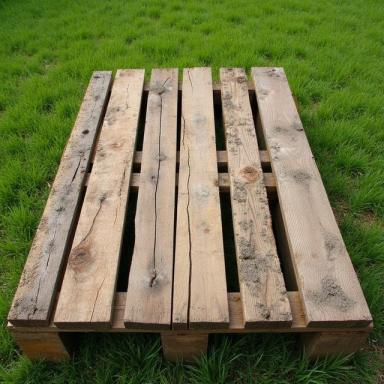pallet: (6, 67, 373, 366)
